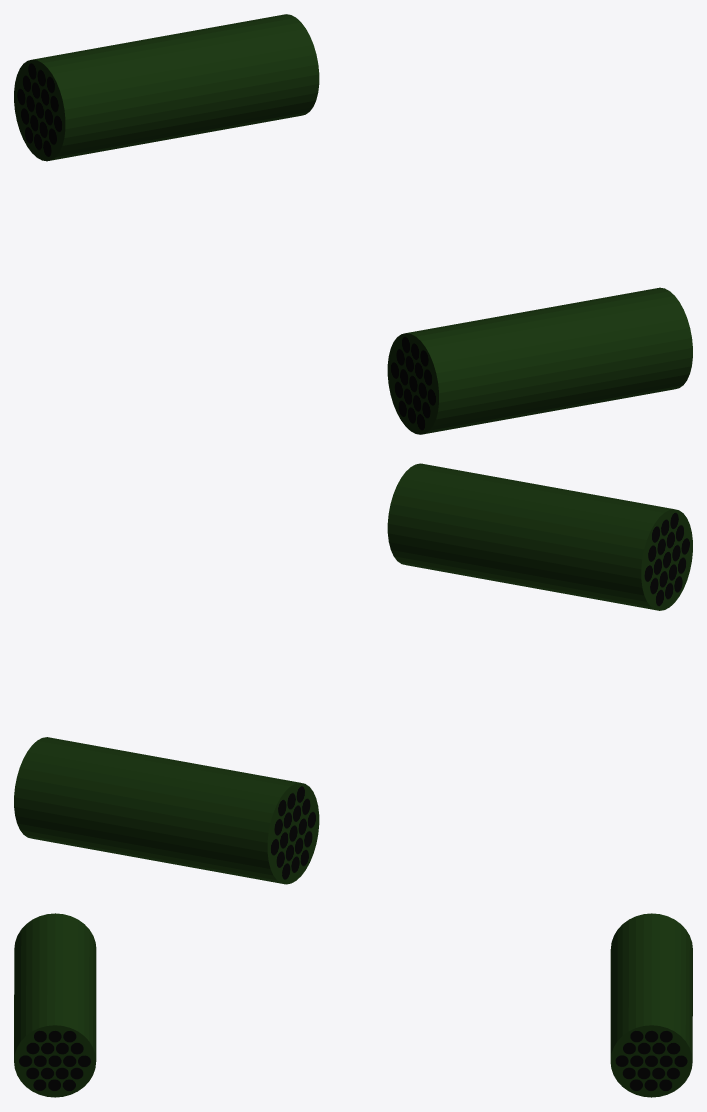
The picture shows the model from 3 angles, top to bottom: view 1: azimuth 30°, elevation 25°; view 2: azimuth 150°, elevation 25°; view 3: azimuth 270°, elevation 25°; orthographic projection. The views are drawn at different scales.
Visible parts, largest first — view 1: 円柱.001, 円柱.005; view 2: 円柱.001, 円柱.005; view 3: 円柱.001, 円柱.005.
Part boxes in pixels (left/top/right/bottom): 円柱.001: left=387, top=287, right=692, bottom=434; 円柱.005: left=14, top=14, right=319, bottom=161; 円柱.001: left=387, top=463, right=692, bottom=610; 円柱.005: left=14, top=737, right=319, bottom=884; 円柱.001: left=14, top=913, right=96, bottom=1097; 円柱.005: left=610, top=913, right=692, bottom=1097.
Bounding box in the file's own units: 1.47 × 0.5916 × 4.17.
1 material, 1 textured.
